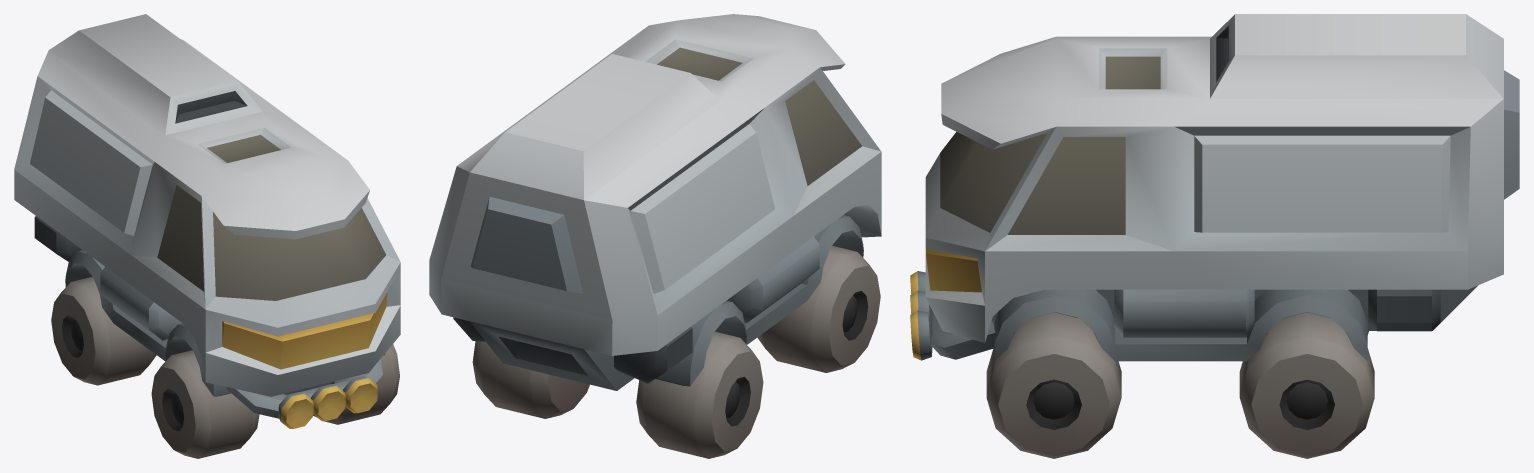
The model's file is space-spacetruck-large.glb.
3 renders of one model, left to right at view 1: azimuth 30°, elevation 25°; view 2: azimuth 150°, elevation 25°; view 3: azimuth 270°, elevation 25°, orthographic. The views are drawn at different scales.
Parts seen in each view (by area): view 1: spacetruck_large, spacetruck_large_wheel_front_right, spacetruck_large_wheel_rear_right, spacetruck_large_wheel_front_left; view 2: spacetruck_large, spacetruck_large_wheel_rear_right, spacetruck_large_wheel_front_right, spacetruck_large_wheel_rear_left; view 3: spacetruck_large, spacetruck_large_wheel_front_left, spacetruck_large_wheel_rear_left.
Boxes of the visible parts, x1,y1,x2,y2 form: spacetruck_large: (14, 14, 400, 428); spacetruck_large_wheel_front_right: (151, 350, 259, 458); spacetruck_large_wheel_rear_right: (51, 276, 156, 385); spacetruck_large_wheel_front_left: (313, 344, 399, 424); spacetruck_large: (429, 14, 881, 390); spacetruck_large_wheel_rear_right: (636, 331, 763, 458); spacetruck_large_wheel_front_right: (757, 245, 880, 372); spacetruck_large_wheel_rear_left: (472, 341, 589, 418); spacetruck_large: (910, 14, 1519, 361); spacetruck_large_wheel_front_left: (986, 312, 1121, 458); spacetruck_large_wheel_rear_left: (1239, 312, 1374, 458).
Bounding box in the file's own units: 0.5046 × 0.6855 × 1.03.
